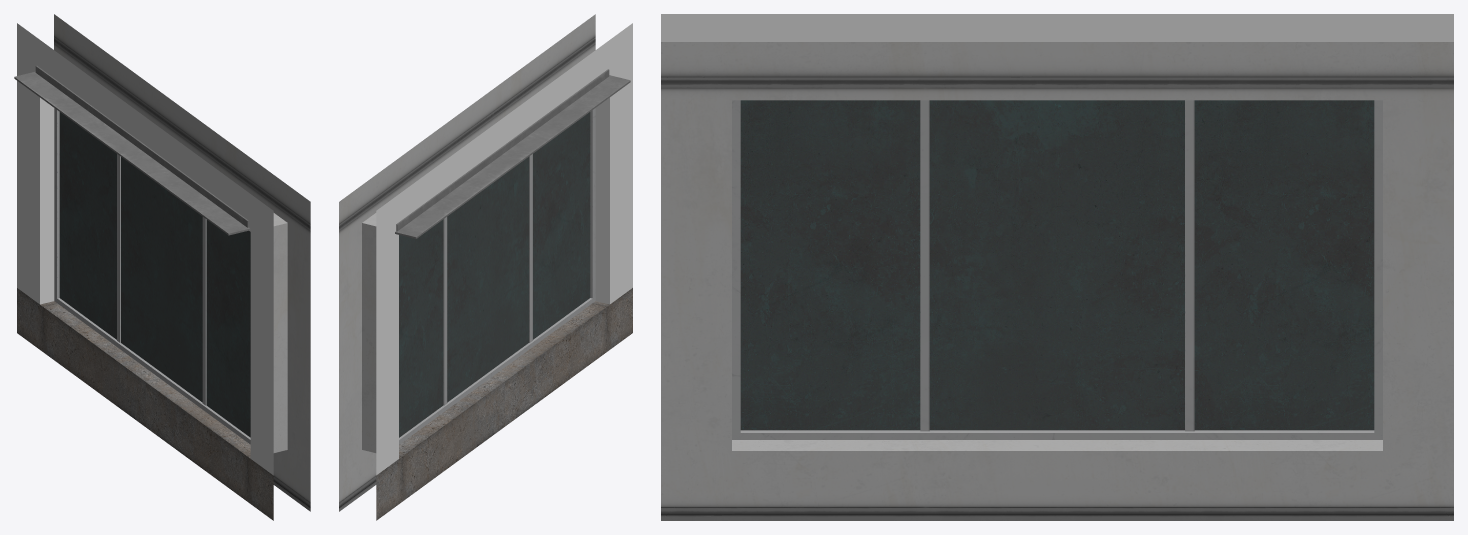
Rendered from MB_Showcase_03.fbx.
3 views of the same model, side by side, from view 1: azimuth 30°, elevation 25°; view 2: azimuth 150°, elevation 25°; view 3: azimuth 270°, elevation 25° (orthographic). The views are drawn at different scales.
Visible parts, largest first — view 1: MB_Showcase_03; view 2: MB_Showcase_03; view 3: MB_Showcase_03.
Boxes of the visible parts, bbox=[...] form: MB_Showcase_03: bbox=[14, 14, 310, 520]; MB_Showcase_03: bbox=[339, 14, 632, 520]; MB_Showcase_03: bbox=[661, 14, 1453, 520].
Bounding box in the file's own units: 79 × 400 × 600.
